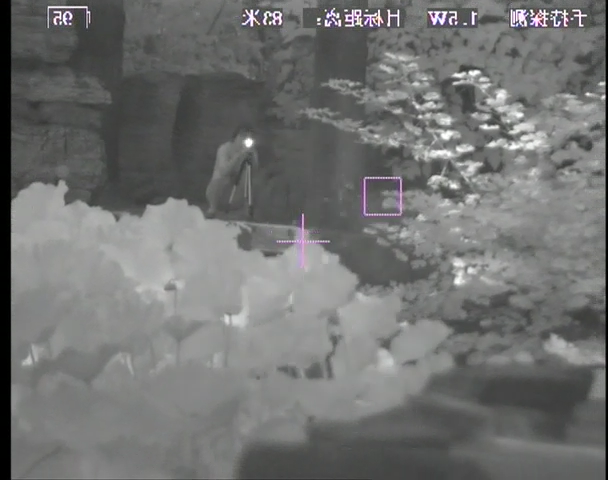my: (242, 137, 256, 151)
